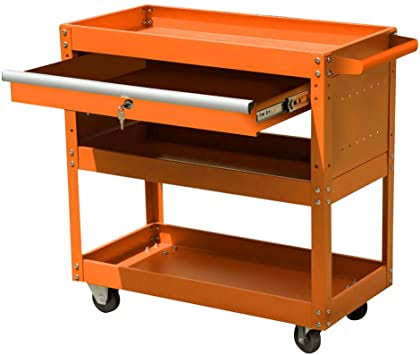Carts: (2, 4, 419, 354)
